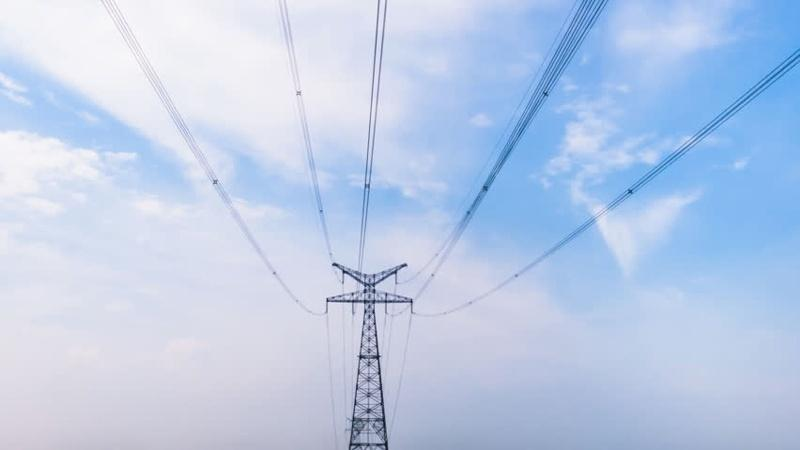power_tower: (305, 253, 424, 446)
